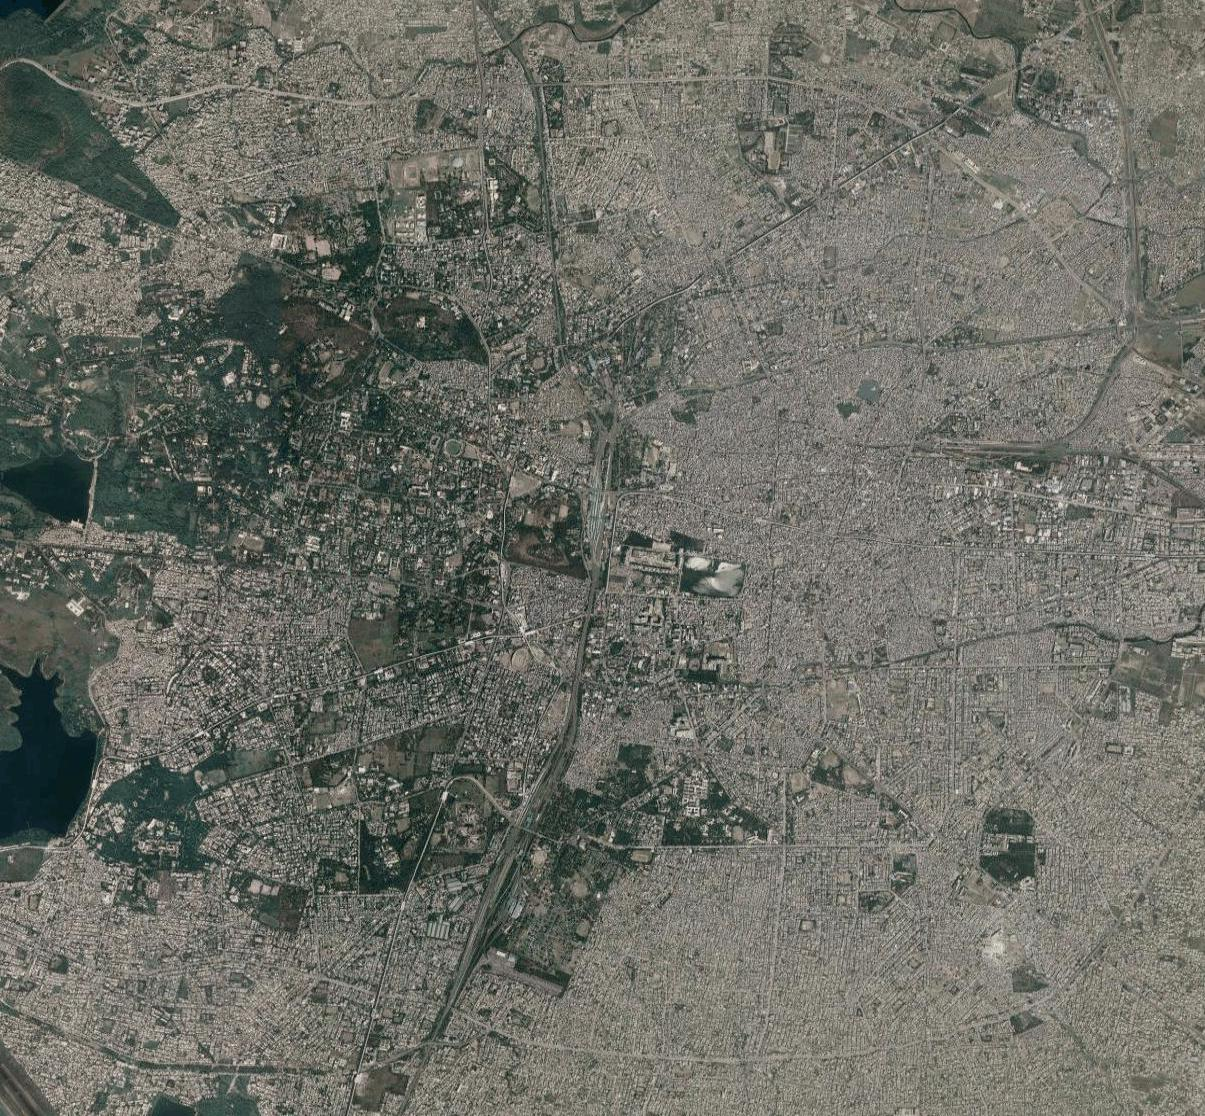train_station: (582, 483, 609, 556)
